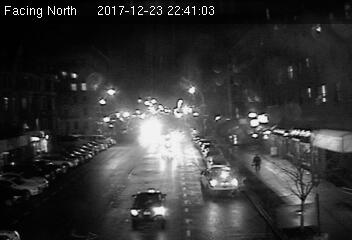car: (129, 189, 168, 224), (200, 167, 239, 195)
pedestrian: (252, 153, 262, 173)
